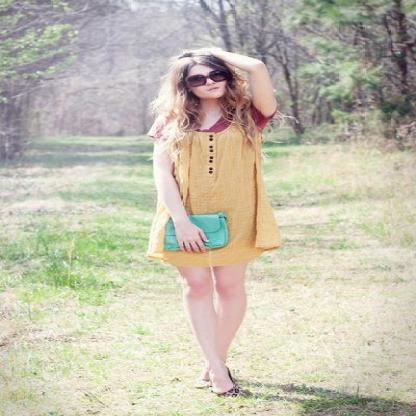bag: (163, 213, 228, 249)
dress: (144, 125, 283, 266)
shirt: (147, 108, 284, 147)
